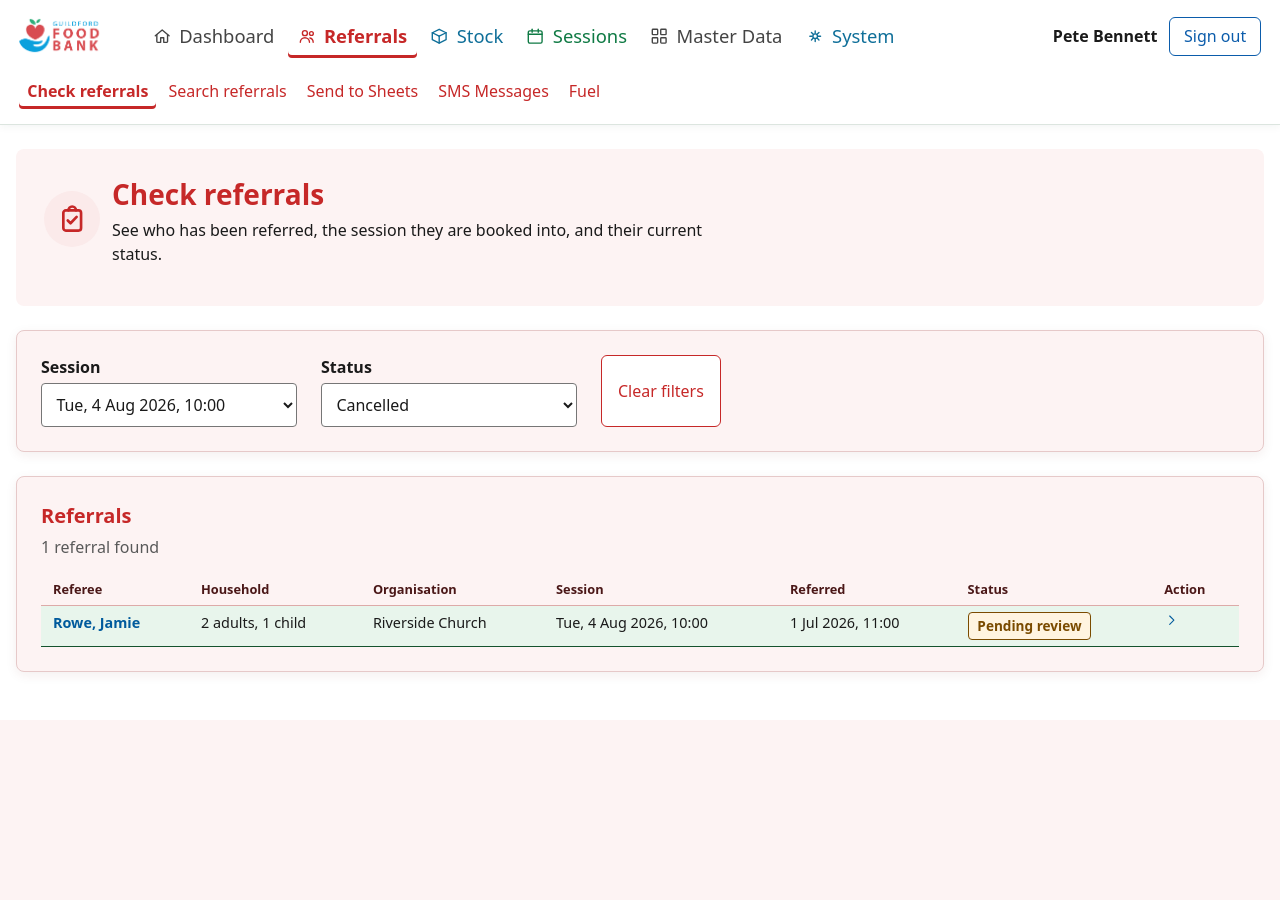
Test: the referrals list › clears both filters back to the privacy-safe list URL
The width and height of the screenshot is (1280, 900).
Expected: the heading "Check referrals" is shown, [112, 175, 324, 213]
Expected: the heading "Referrals" is shown, [41, 502, 132, 529]
What coordinates should you click on to do the following:
click the button "Clear filters"
I would click on:
 (661, 391)
Its box is [601, 355, 721, 427].
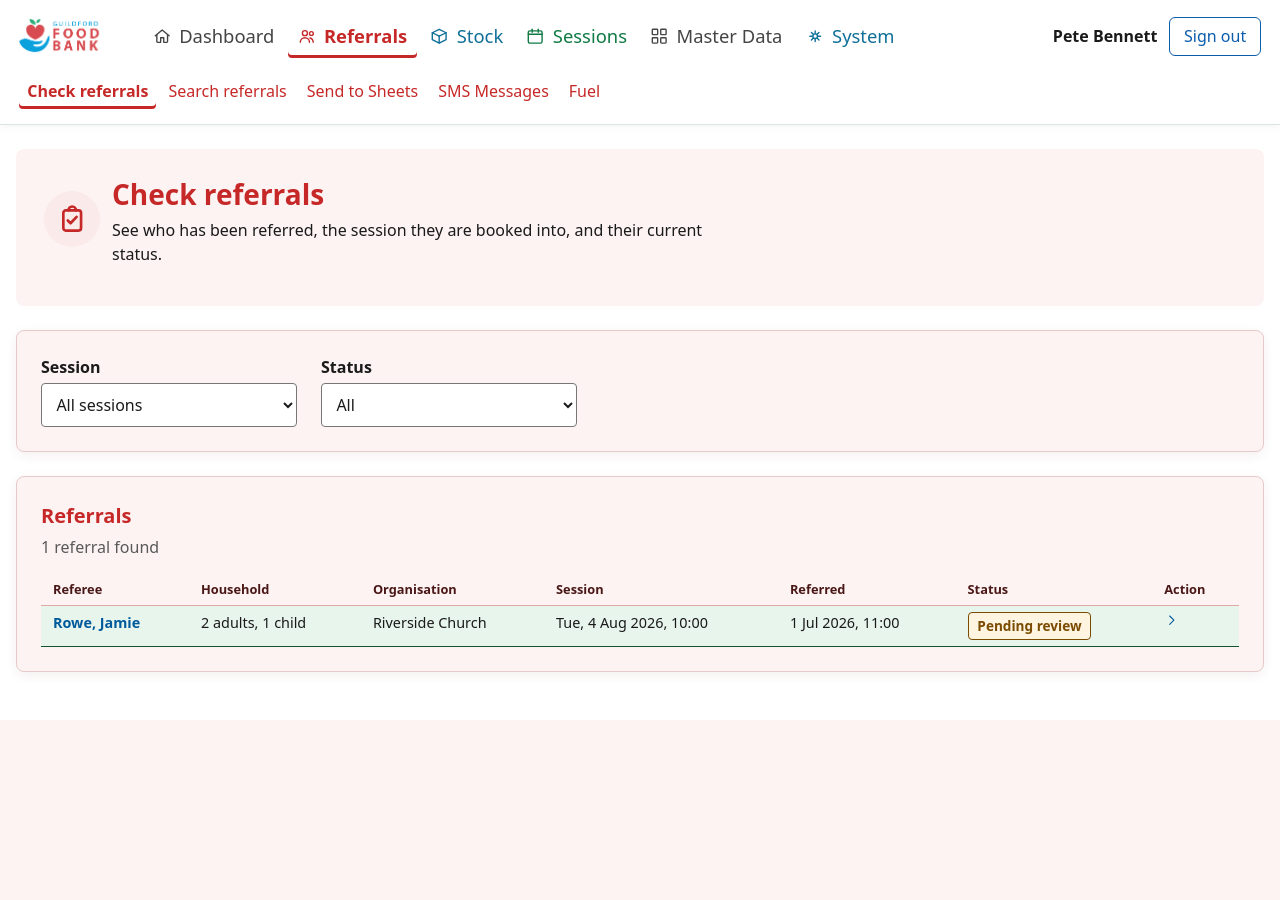
Expected: the dropdown labelled "Session" shows "All sessions", [41, 383, 297, 427]
Expected: the dropdown labelled "Status" shows "All", [321, 383, 577, 427]
